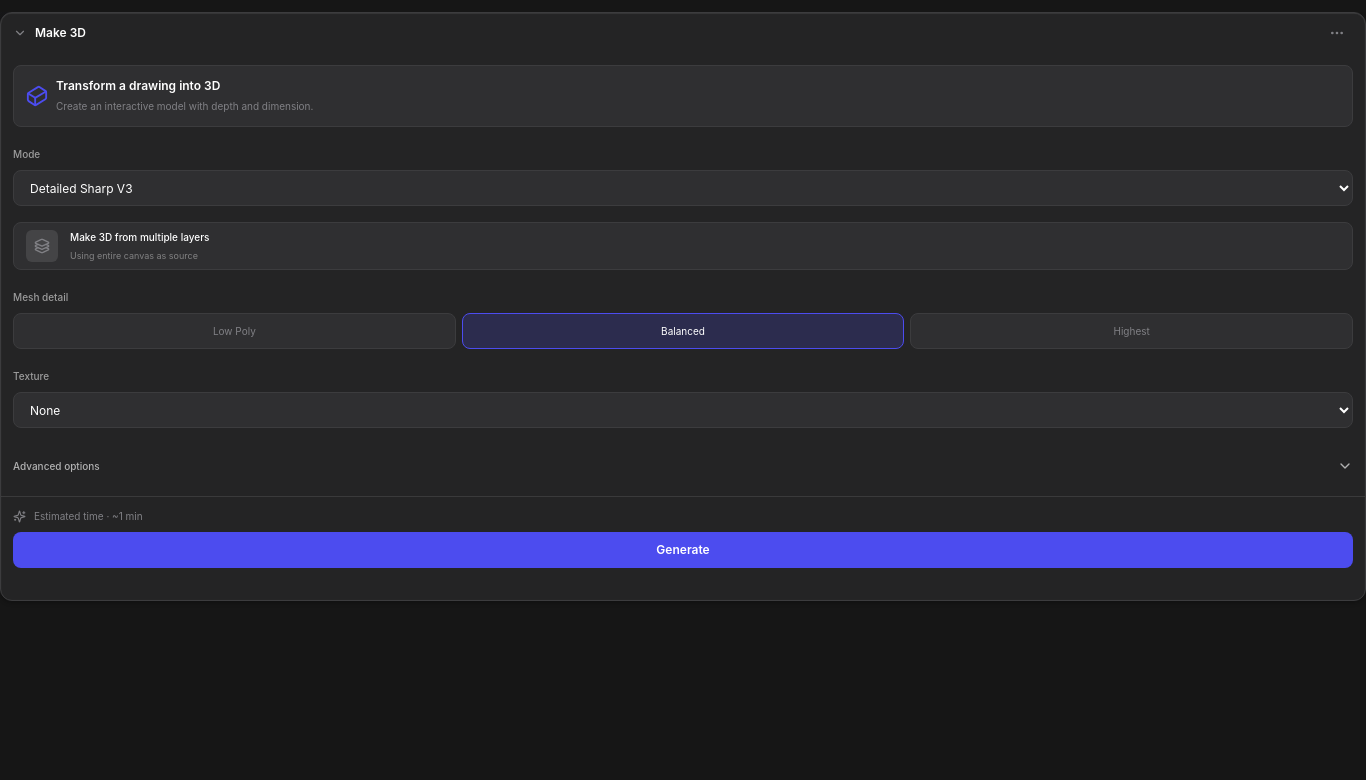
Make3DPanel › exposes reference-aligned model controls and queues generation
The image size is (1366, 780).
Click the button "Highest": x=1132, y=331 x1=910 y1=313 x2=1353 y2=349
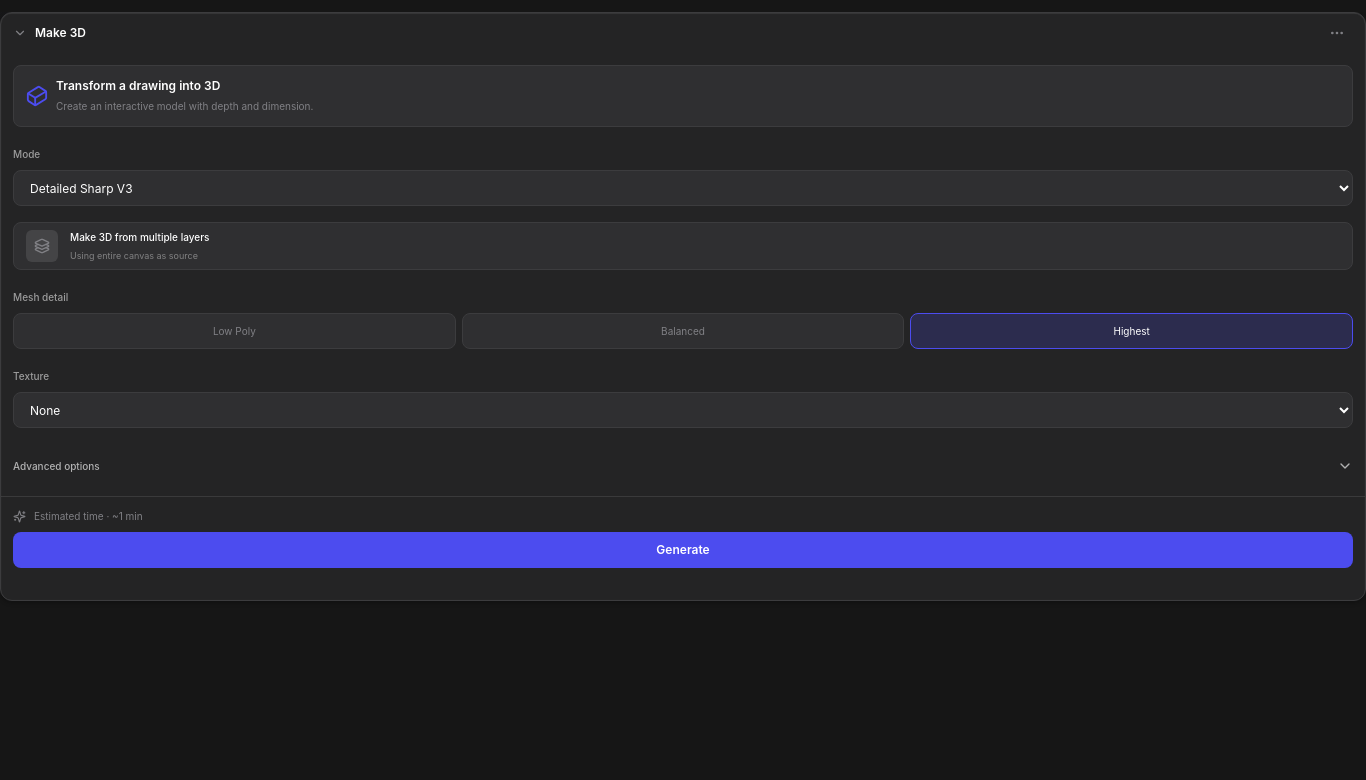
Click the button "Advanced options": x=56, y=466 x1=13 y1=448 x2=1353 y2=484
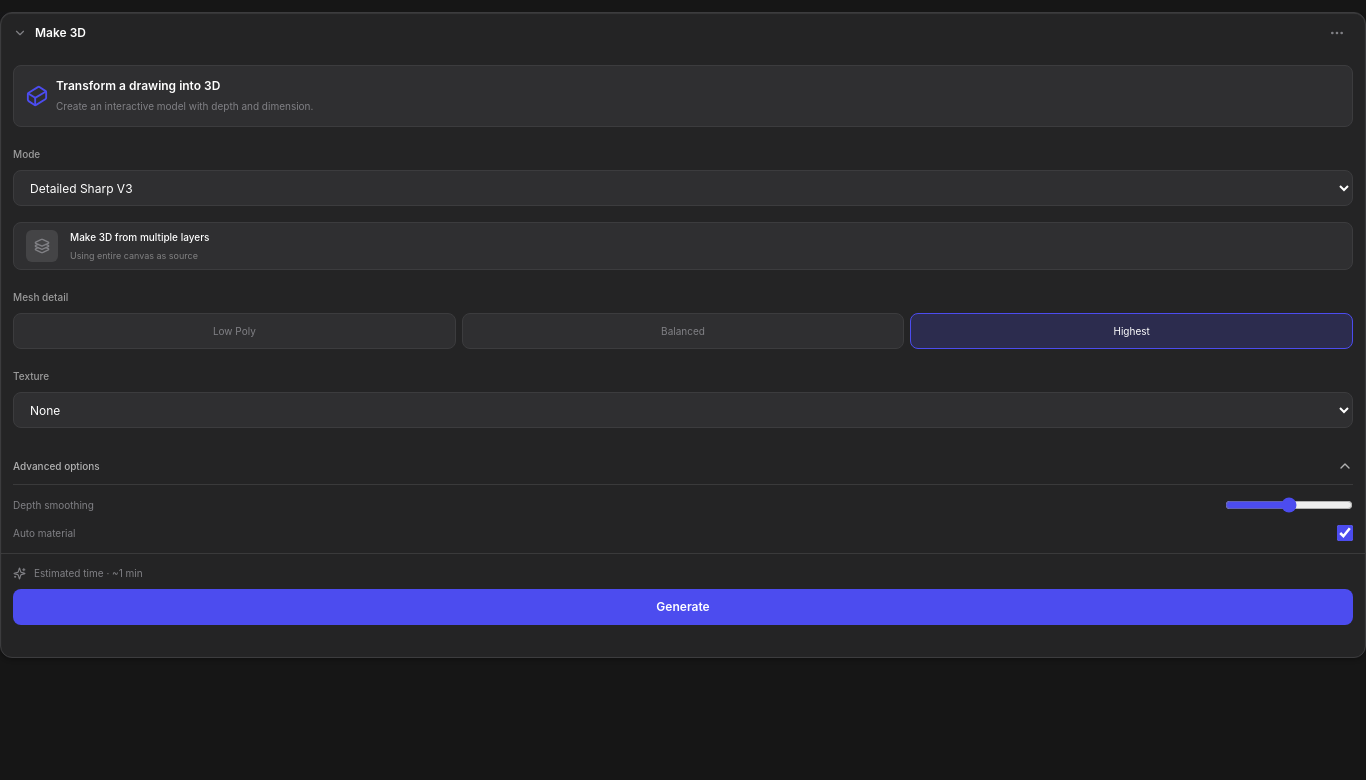
Click the button "Generate": x=683, y=607 x1=13 y1=589 x2=1353 y2=625
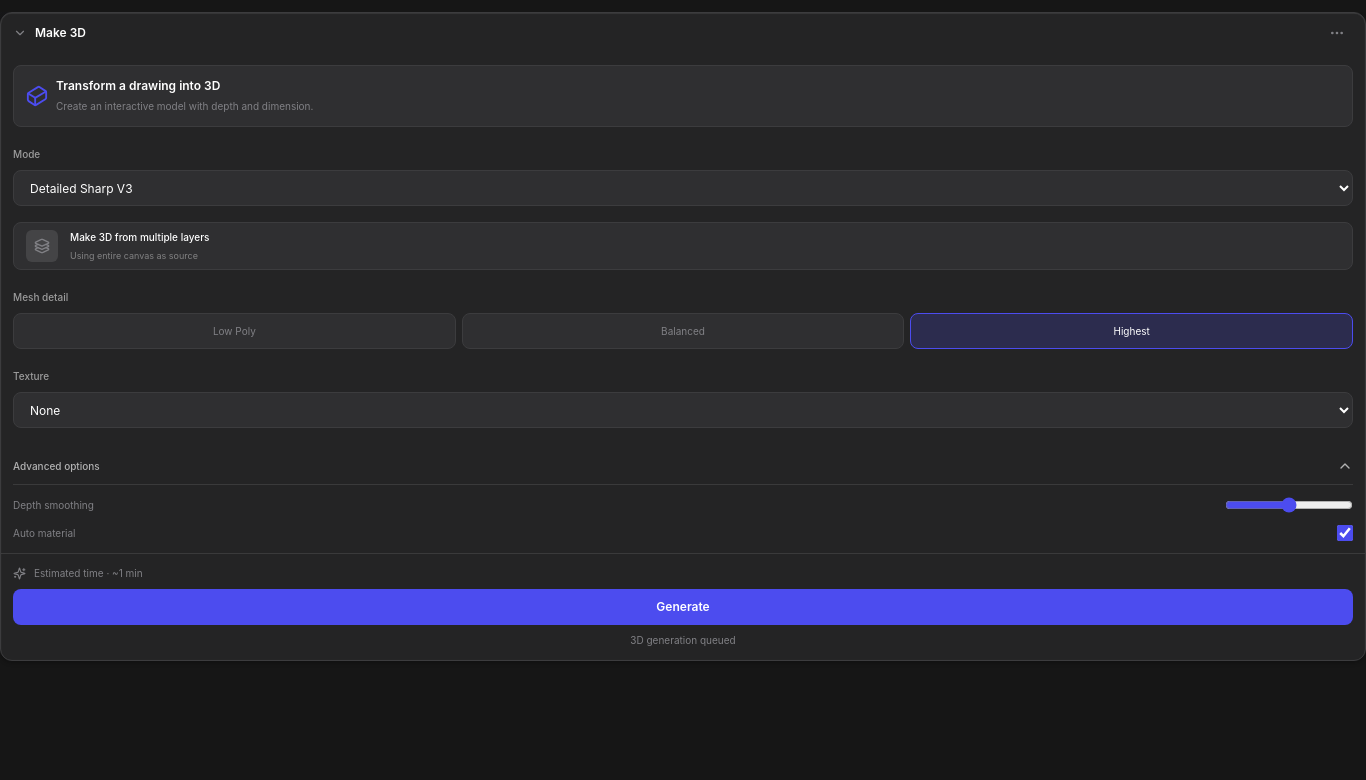
Check: the button "Advanced options" is expanded, box x1=13 y1=448 x2=1353 y2=484
Check: the message reads "3D generation queued", box x1=630 y1=634 x2=736 y2=646
